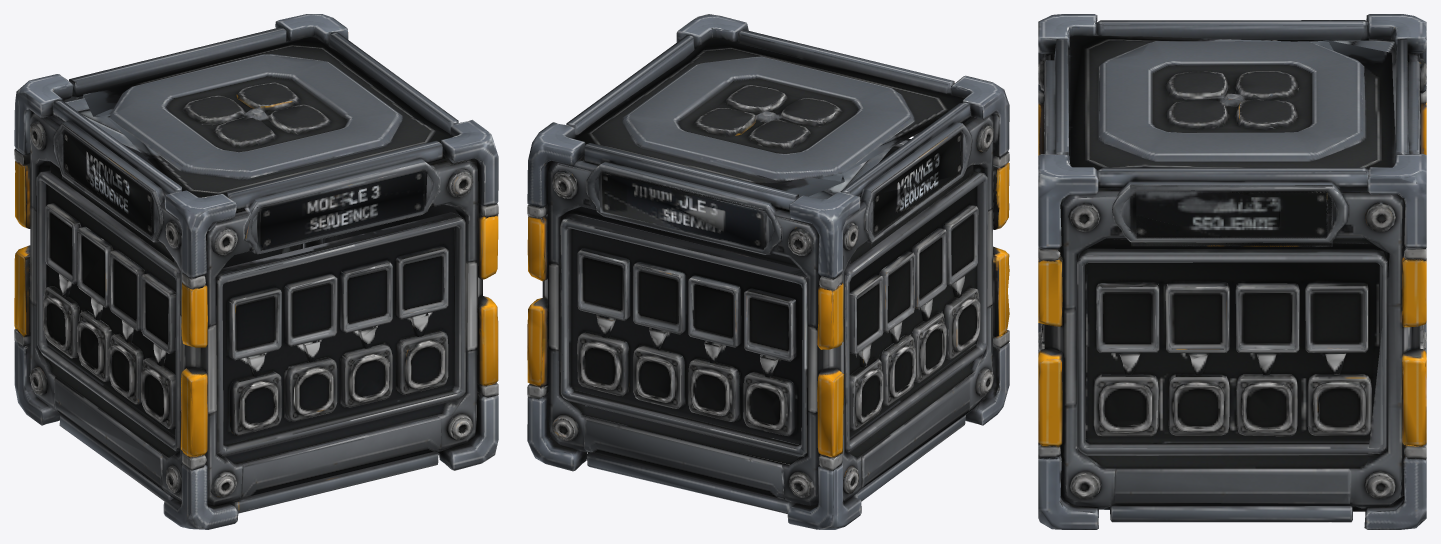
File: SequenceBox.glb
3 views of the same model, side by side, from view 1: azimuth 30°, elevation 25°; view 2: azimuth 150°, elevation 25°; view 3: azimuth 270°, elevation 25° (orthographic). The views are drawn at different scales.
Size of the model in its own units: 1 by 1 by 1.
Materials: 1 (1 with a texture image).
